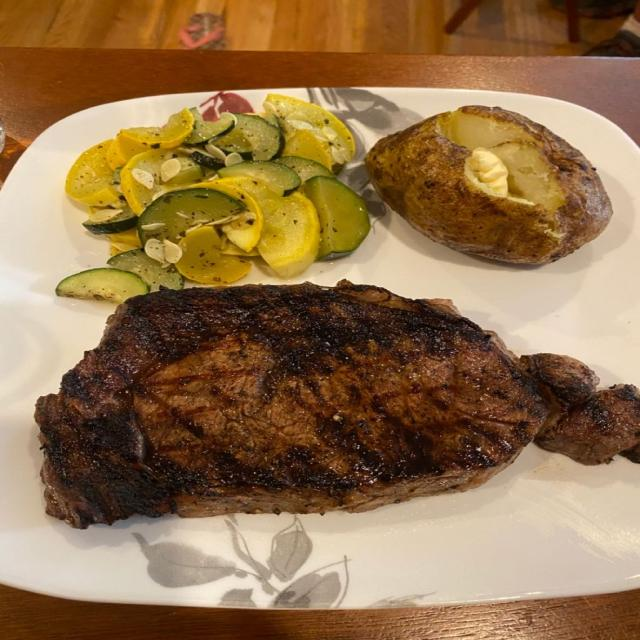beef steak: (36, 282, 548, 527), (537, 384, 639, 463), (520, 354, 599, 408)
boiled potato: (365, 106, 611, 264)
lemon: (264, 93, 354, 164), (257, 192, 319, 278), (177, 227, 250, 284), (121, 149, 176, 215), (66, 140, 118, 206), (121, 108, 193, 147), (109, 133, 150, 168)
lime: (137, 187, 247, 243), (303, 176, 370, 259), (57, 267, 148, 303), (214, 114, 283, 160), (108, 249, 183, 291), (219, 161, 300, 195), (275, 156, 332, 183), (83, 207, 137, 234)
